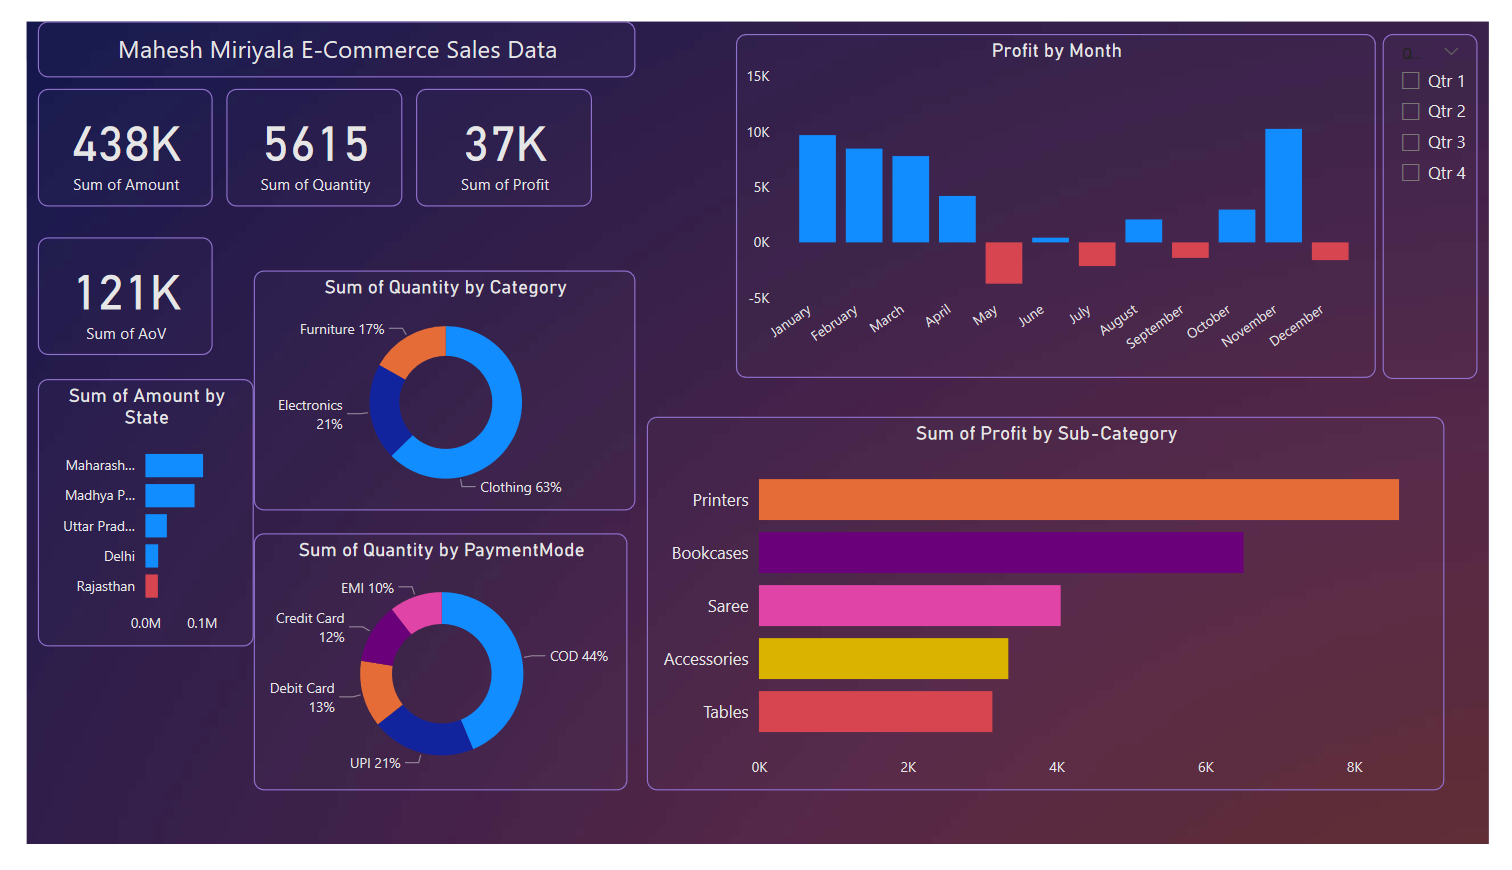

The page's visual inventory and layout, read from the dashboard file:
{"tool":"powerbi","page":{"name":"Page 1","canvas":[1280,720],"ordinal":0},"visuals":[{"type":"columnChart","title":"Profit by Month","fields":{"Category":["Orders.Order Date.Variation.Date Hierarchy.Month"],"Y":["Details.Profit"]},"box":[621.2,10.7,559.3,301.1],"z":1000},{"type":"barChart","fields":{"Category":["Details.Sub-Category"],"Y":["Details.Profit"]},"box":[542.9,345.5,697.9,327.7],"z":2000},{"type":"donutChart","fields":{"Category":["Details.Category"],"Y":["Details.Quantity"]},"box":[198.8,218,334.5,209.8],"z":3000},{"type":"donutChart","fields":{"Y":["Details.Quantity"],"Category":["Details.PaymentMode"]},"box":[198.8,448.3,327.7,224.9],"z":4000},{"type":"card","fields":{"Values":["Details.Amount"]},"box":[9.6,59,153.6,102.8],"z":5000},{"type":"card","fields":{"Values":["Details.Quantity"]},"box":[175.5,59,153.6,102.8],"z":6000},{"type":"card","fields":{"Values":["Details.Profit"]},"box":[341.4,59,153.6,102.8],"z":7000},{"type":"card","fields":{"Values":["Details.AoV"]},"box":[9.6,189.2,153.6,102.8],"z":8000},{"type":"barChart","fields":{"Category":["Orders.State"],"Y":["Details.Amount"]},"box":[9.6,312.6,189.2,234.4],"z":9000},{"type":"slicer","fields":{"Values":["Orders.Order Date.Variation.Date Hierarchy.Quarter"]},"box":[1187.3,11,82.3,301.6],"z":10000},{"type":"textbox","box":[9.6,0,523.7,49.4],"z":10001}]}

Visuals, with their boxes in screenshot pixels (x1, y1, x2, y2), scaled from the page's 1280x720 canvas onto the 1512x870 screenshot:
"Profit by Month" columnChart: 734 13 1394 377
barChart - Details.Sub-Category x Details.Profit: 641 417 1466 813
donutChart - Details.Category x Details.Quantity: 235 263 630 517
donutChart - Details.Quantity x Details.PaymentMode: 235 542 622 813
card - Details.Amount: 11 71 193 196
card - Details.Quantity: 207 71 389 196
card - Details.Profit: 403 71 585 196
card - Details.AoV: 11 229 193 353
barChart - Orders.State x Details.Amount: 11 378 235 661
slicer - Orders.Order Date.Variation.Date Hierarchy.Quarter: 1402 13 1500 378
textbox: 11 0 630 60
